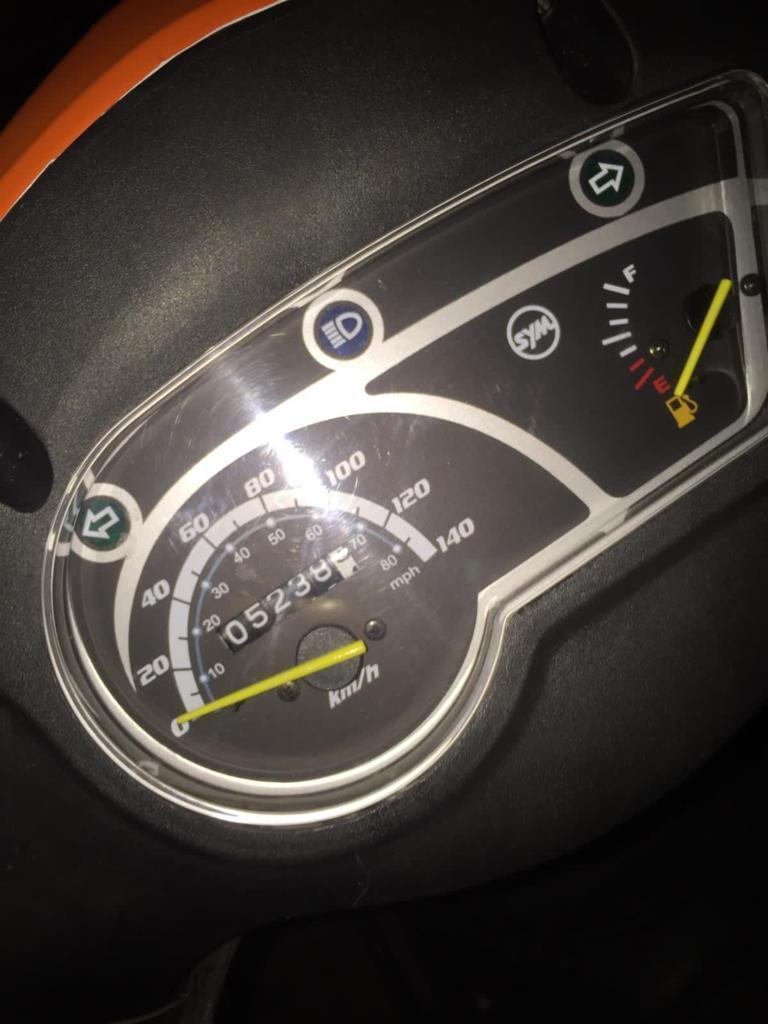0: (223, 618, 248, 645), (218, 580, 229, 594), (239, 546, 251, 558), (211, 612, 220, 627)
2: (266, 586, 291, 614)
3: (287, 572, 310, 597), (330, 541, 349, 563), (211, 585, 222, 599)
4: (232, 551, 243, 564)
5: (243, 601, 268, 629)
8: (308, 556, 332, 583)
odometer: (210, 541, 366, 657)
